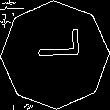L_W: (29, 38, 81, 72)
